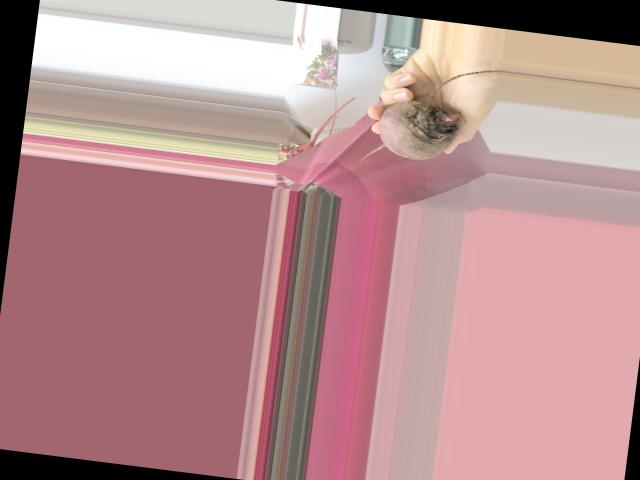beet: (358, 53, 499, 179)
